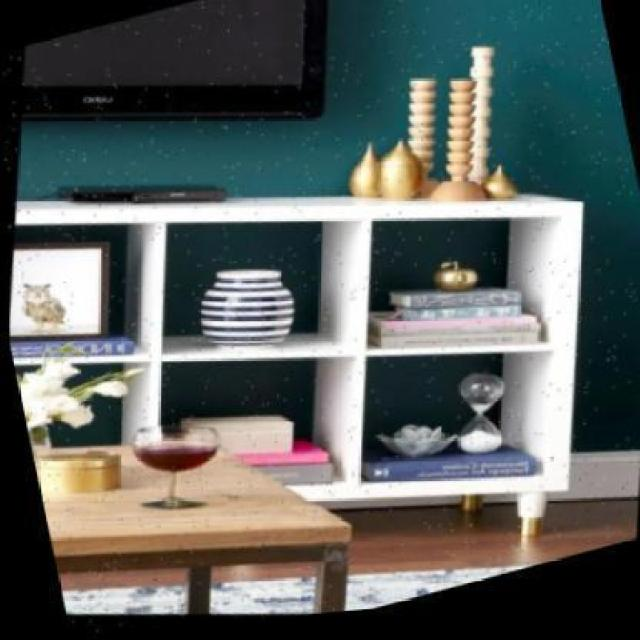tables: (32, 440, 352, 614)
